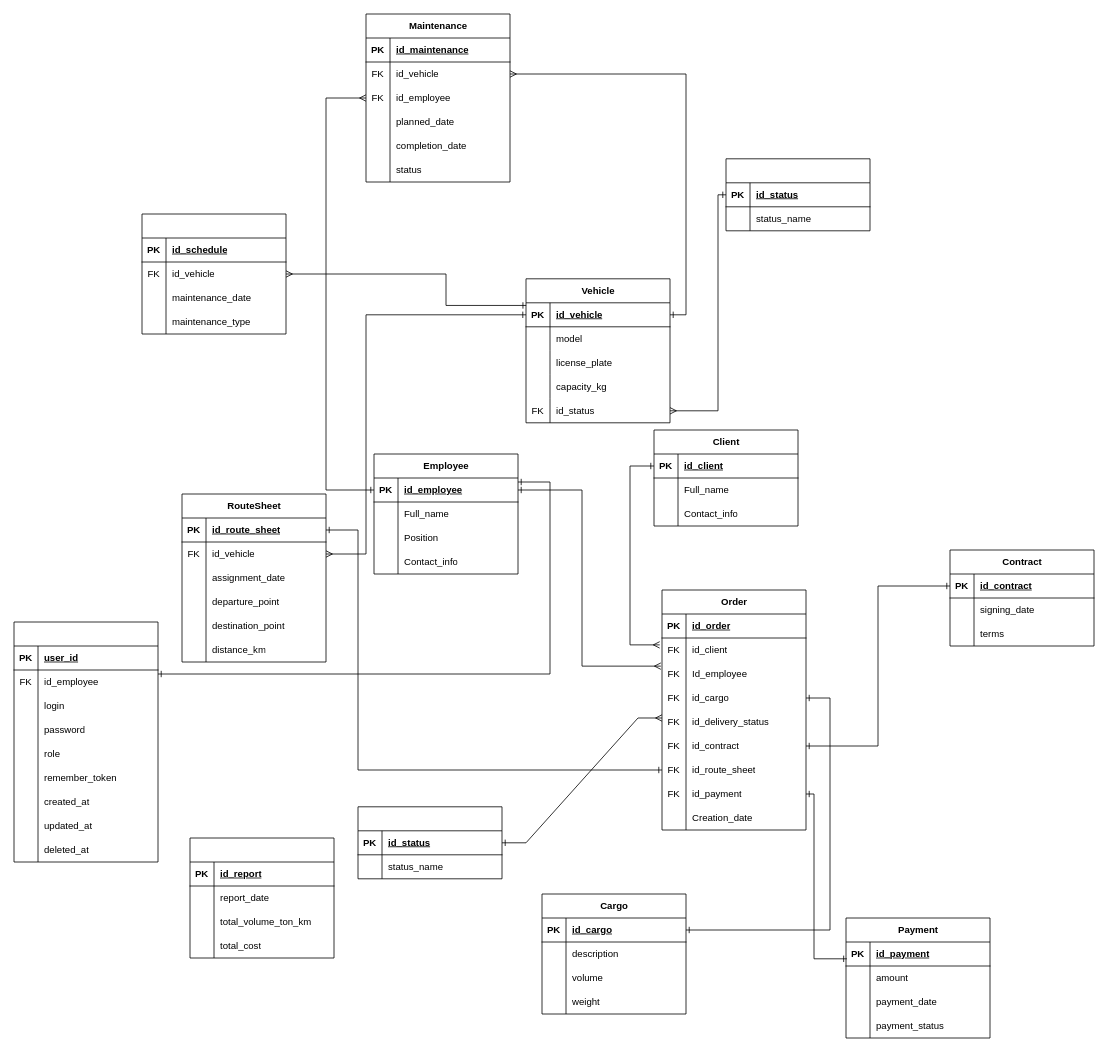
This 1108x1052 diagram has some shape labels left out. The box of each missing label's shape, as (x1, y1, x2, y2) in pixels:
DeliveryStatus: (357, 806, 502, 879)
MaintenanceSchedule: (141, 213, 286, 334)
MetricsReport: (189, 837, 334, 958)
Users: (13, 621, 158, 862)
VehicleStatus: (725, 158, 870, 231)
